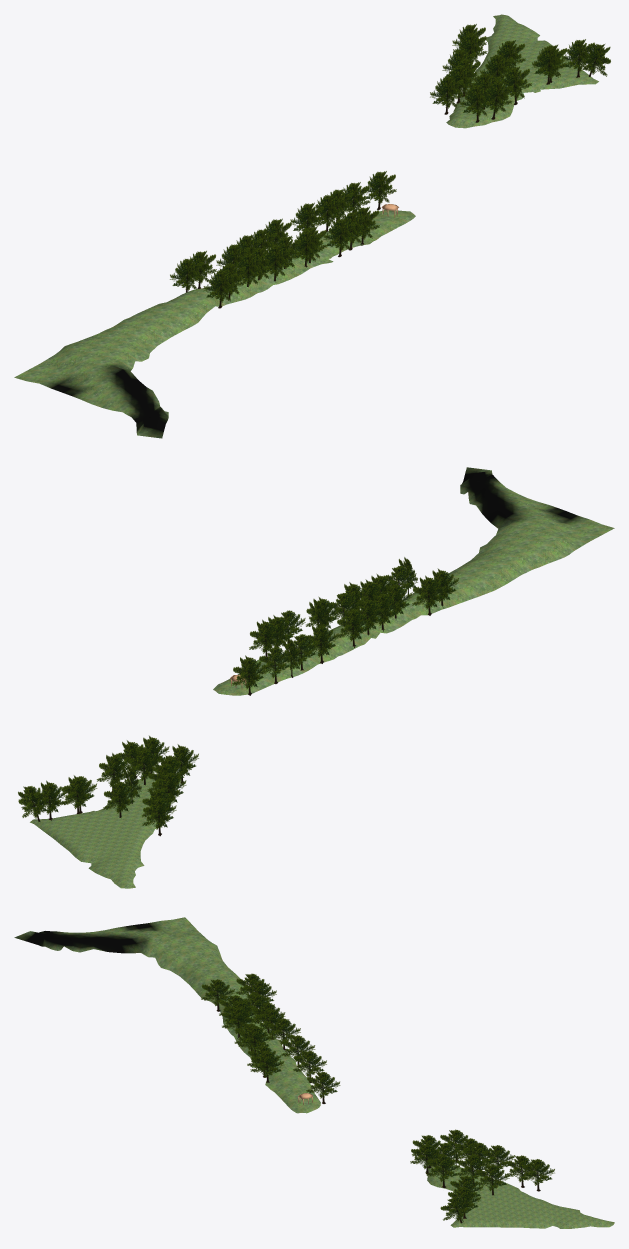
3 renders of one model, top to bottom at view 1: azimuth 30°, elevation 25°; view 2: azimuth 210°, elevation 25°; view 3: azimuth 270°, elevation 25°, orthographic. The views are drawn at different scales.
Parts seen in each view (by area): view 1: Peninsula, Tree01.023, Tree01.020, Tree01.007, Tree01.021, Tree01, Tree01.028, Tree01.025, Tree01.030, Tree01.014, Tree01.022, Tree01.004 (+5 smaller); view 2: Peninsula, Tree01.037, Tree01.018, Tree01, Tree01.031, Tree01.009, Tree01.036, Tree01.030, Tree01.005, Tree01.001, Tree01.004, Tree01.024 (+4 smaller); view 3: Peninsula, Tree01.024, Tree01.037, Tree01.005, Tree01, Tree01.036, Tree01.020, Tree01.002, Tree01.010, Tree01.009, Tree01.014, Tree01.029 (+5 smaller).
Part boxes in pixels (x1,y1,x2,y2): Peninsula: (14, 14, 598, 438); Tree01.023: (430, 75, 464, 114); Tree01.020: (203, 269, 237, 308); Tree01.007: (323, 218, 357, 257); Tree01.021: (170, 258, 203, 292); Tree01: (362, 171, 396, 209); Tree01.028: (531, 46, 565, 84); Tree01.025: (480, 80, 513, 119); Tree01.030: (561, 39, 594, 77); Tree01.014: (258, 244, 291, 281); Tree01.022: (459, 84, 494, 122); Tree01.004: (290, 202, 324, 231); Peninsula: (30, 467, 614, 888); Tree01.037: (142, 795, 176, 836); Tree01.018: (412, 575, 445, 615); Tree01: (232, 655, 266, 695); Tree01.031: (60, 775, 94, 814); Tree01.009: (336, 607, 370, 647); Tree01.036: (103, 779, 137, 817); Tree01.030: (33, 780, 67, 820); Tree01.005: (249, 619, 279, 657); Tree01.001: (258, 646, 292, 683); Tree01.004: (306, 623, 338, 663); Tree01.024: (96, 753, 131, 792); Peninsula: (14, 917, 614, 1228); Tree01.024: (426, 1154, 460, 1187); Tree01.037: (521, 1159, 554, 1191); Tree01.005: (250, 1051, 284, 1082); Tree01: (306, 1071, 340, 1103); Tree01.036: (476, 1164, 509, 1195); Tree01.020: (201, 979, 234, 1011); Tree01.002: (293, 1050, 326, 1082); Tree01.010: (238, 1026, 271, 1052); Tree01.009: (267, 1018, 300, 1050); Tree01.014: (222, 1007, 255, 1038); Tree01.029: (440, 1196, 472, 1223).
Size of the model in its own units: 320 by 19.47 by 255.
Materials: 3 (2 with a texture image).
